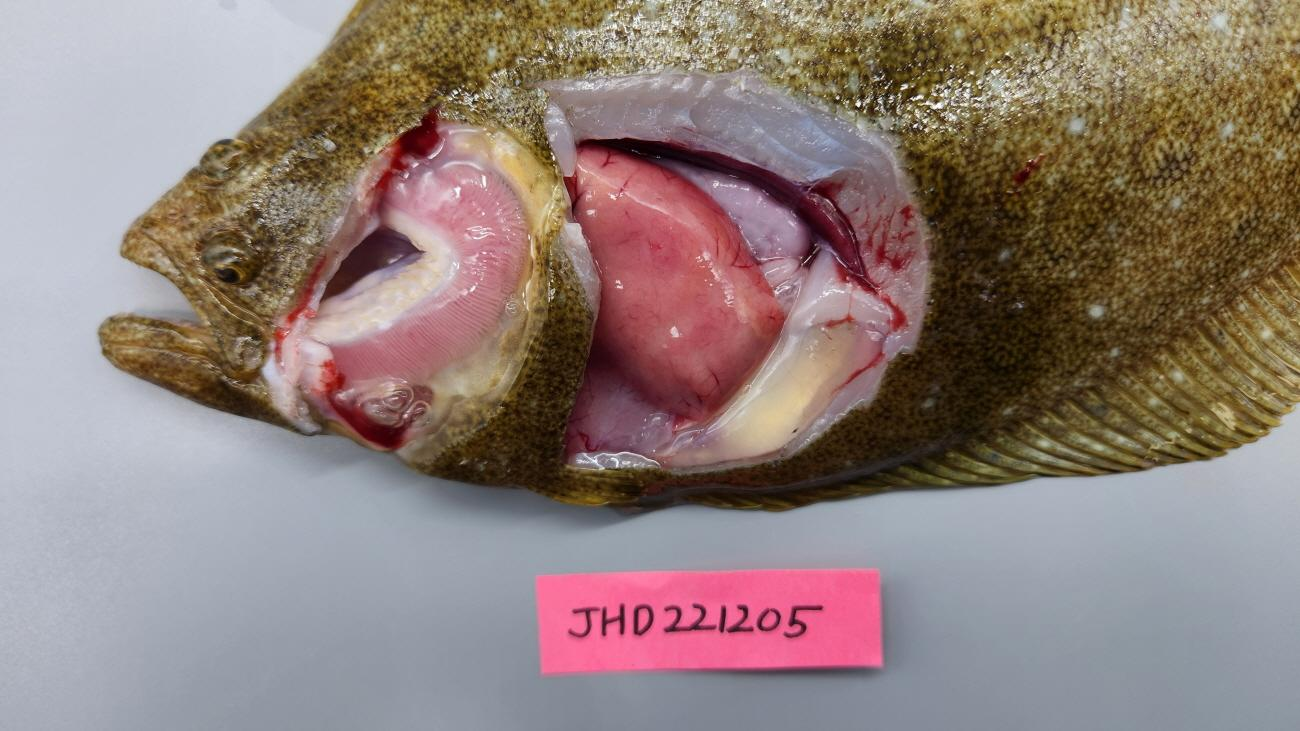MAGIN: (388, 157, 512, 275)
